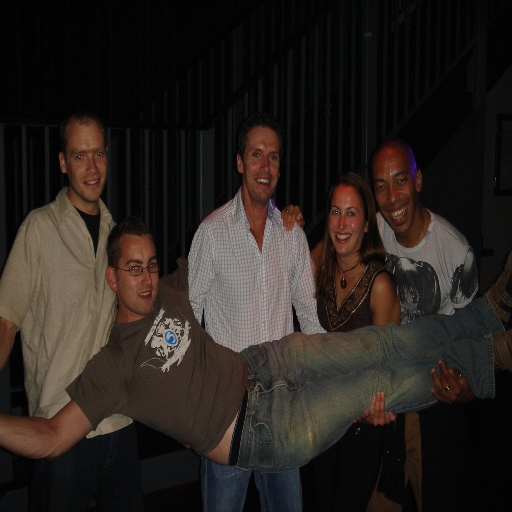hand: (432, 354, 474, 414), (364, 390, 387, 426), (280, 203, 306, 232), (352, 408, 369, 424), (384, 408, 397, 424)
